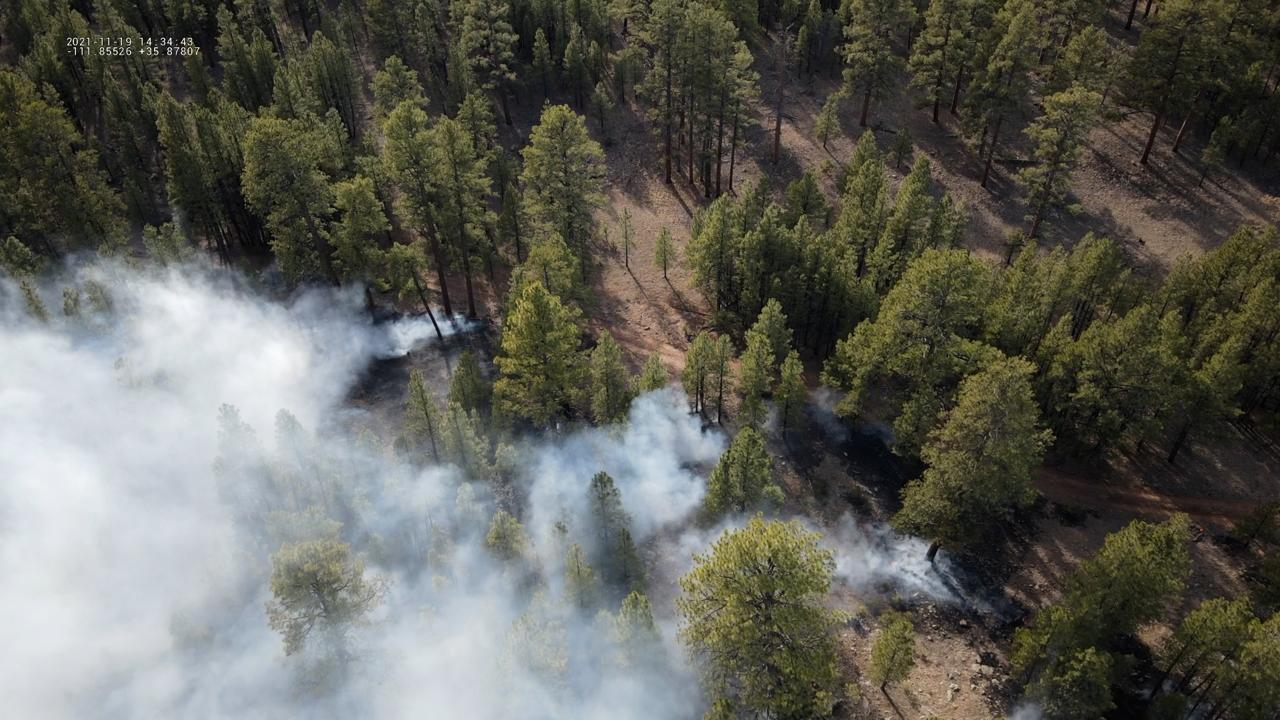smoke: (0, 245, 746, 720), (790, 514, 976, 598), (810, 385, 853, 444), (756, 399, 785, 434), (1010, 701, 1042, 720), (1182, 698, 1207, 720)
